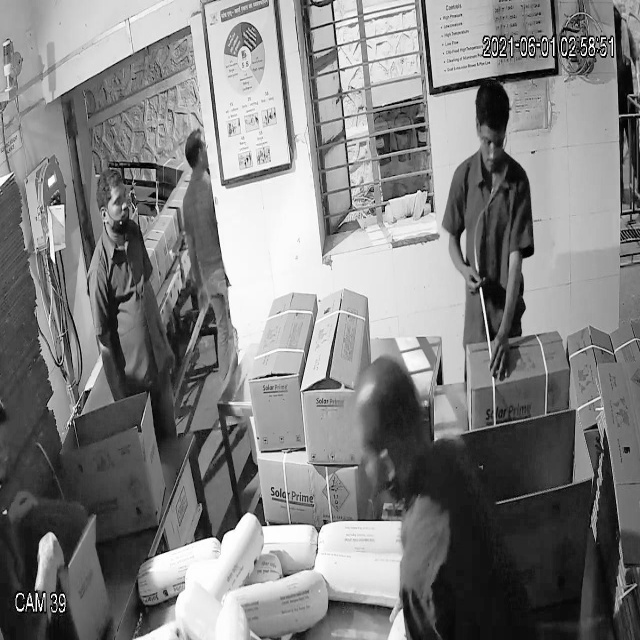Gafas: (473, 124, 512, 157)
